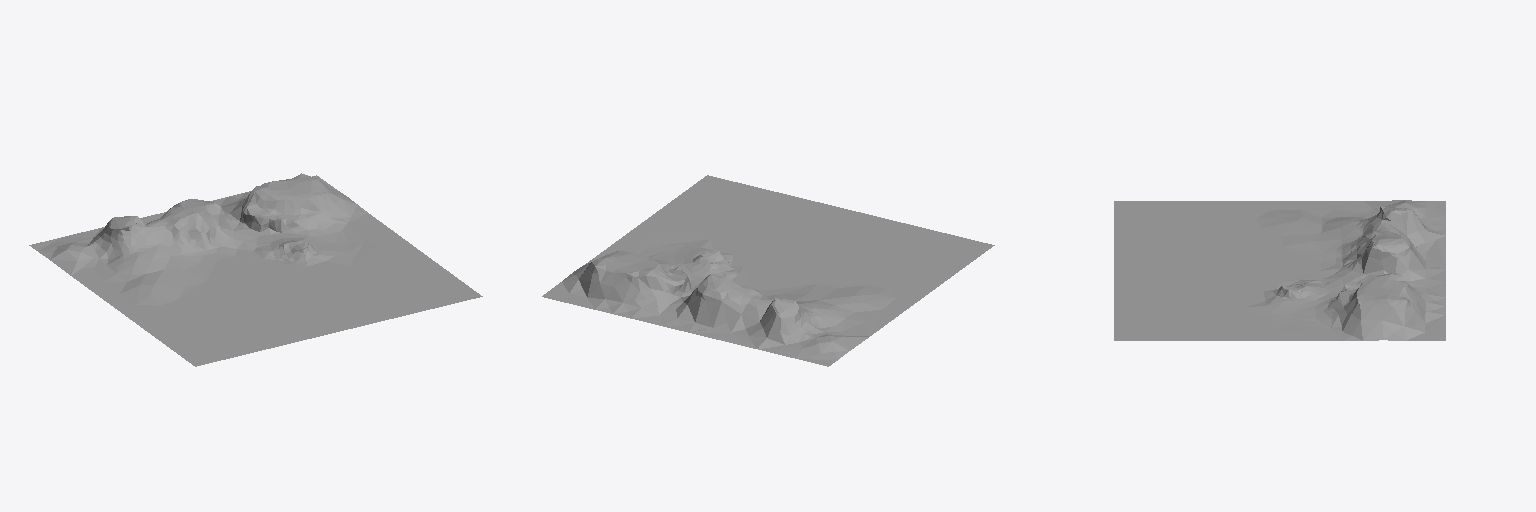
The model's file is arctic.obj.
3 views of the same model, side by side, from view 1: azimuth 30°, elevation 25°; view 2: azimuth 150°, elevation 25°; view 3: azimuth 270°, elevation 25° (orthographic).
Visible parts, largest first — view 1: Arctic_arctic; view 2: Arctic_arctic; view 3: Arctic_arctic.
Part boxes in pixels (left/top/right/bottom): Arctic_arctic: left=29, top=173, right=482, bottom=366; Arctic_arctic: left=542, top=175, right=994, bottom=366; Arctic_arctic: left=1114, top=200, right=1445, bottom=340.
Size of the model in its own units: 101 by 10.33 by 101.